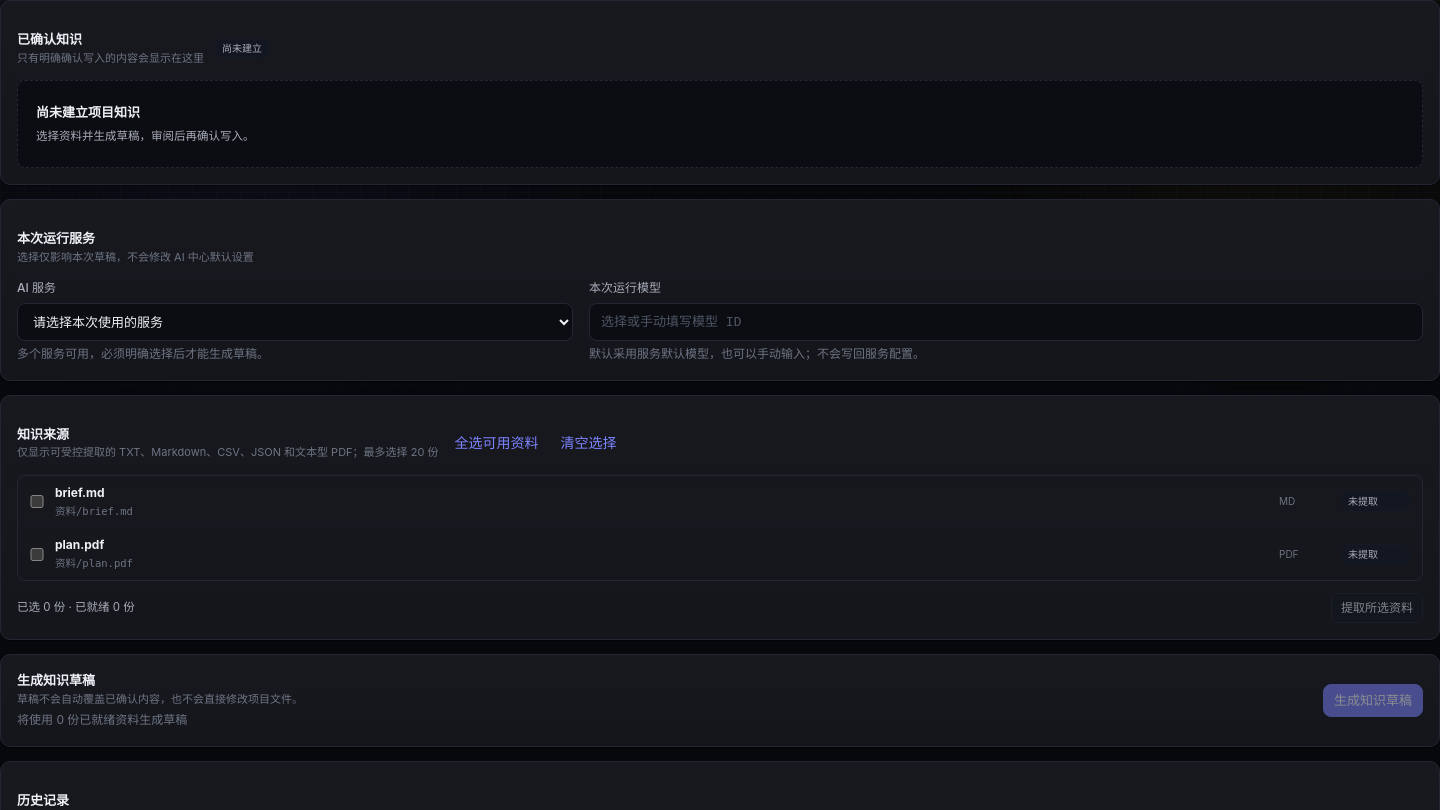
Phase 10.3 project knowledge › requires explicit selection with multiple ready providers and marks unavailable options
Check: the text "多个服务可用，必须明确选择后才能生成草稿。" is shown, box [17,346,269,361]
Select "云端模型 · 可用" in the dropdown labelled "AI 服务" at (295, 322), box [17,303,573,341]
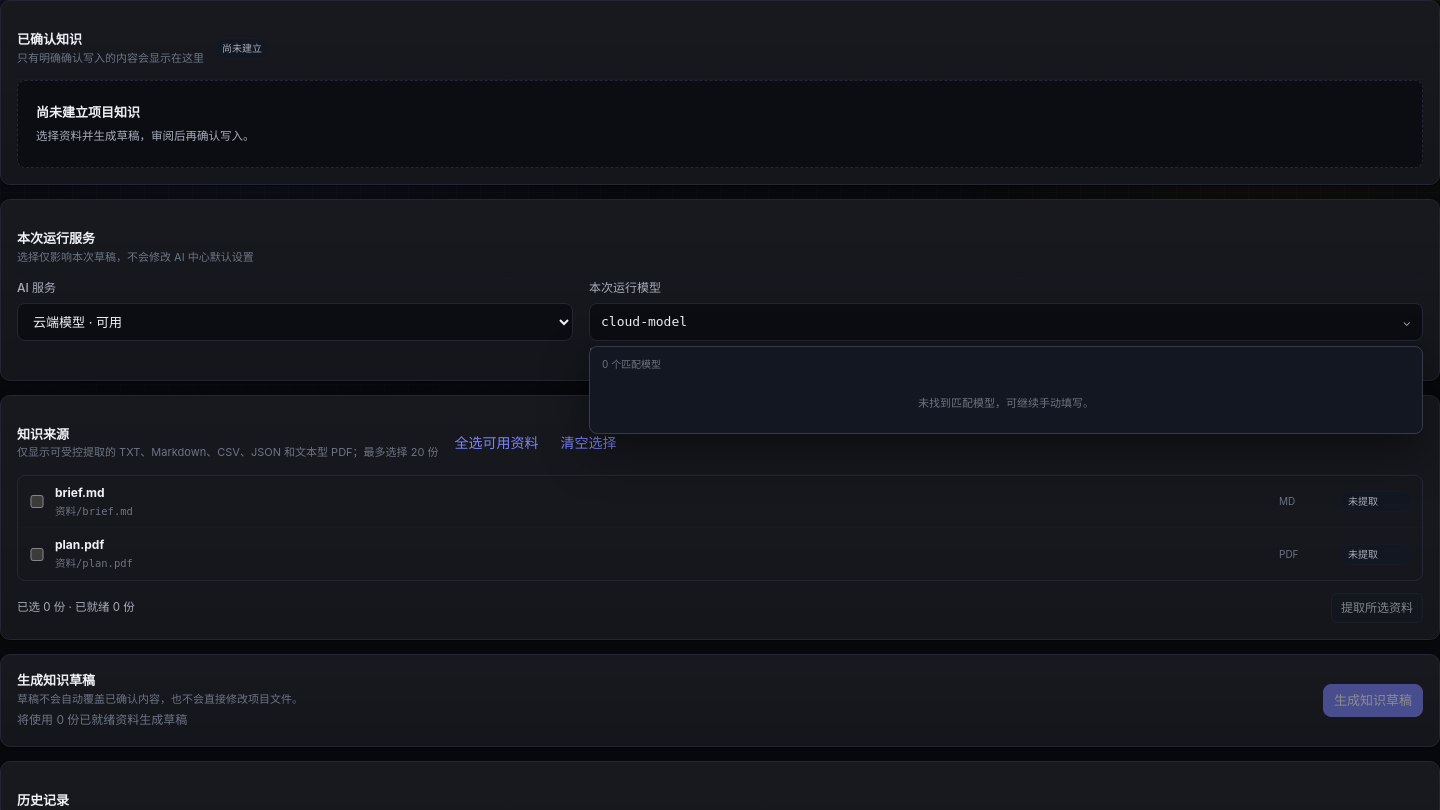
Check: the dropdown labelled "本次运行模型" holds "cloud-model", box [589,303,1423,341]
